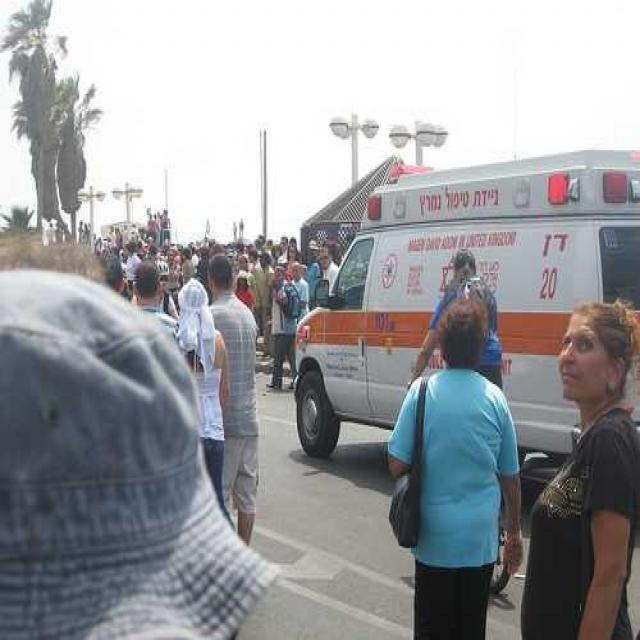emergency-vehicle: (293, 145, 640, 459)
